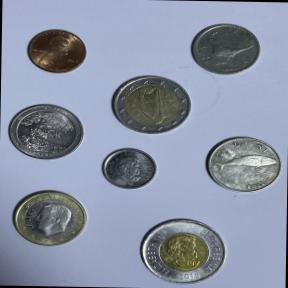1 Euro-B: (5, 187, 90, 250)
2 Euro-B: (105, 70, 196, 140)
Canada-10cent-B: (98, 142, 160, 192)
Canada-2Dollar-B: (131, 211, 231, 288)
Croatia-2Kune-B: (197, 130, 287, 198)
US-1cent-B: (22, 25, 92, 78)
US-25cent-B: (3, 98, 88, 162)
